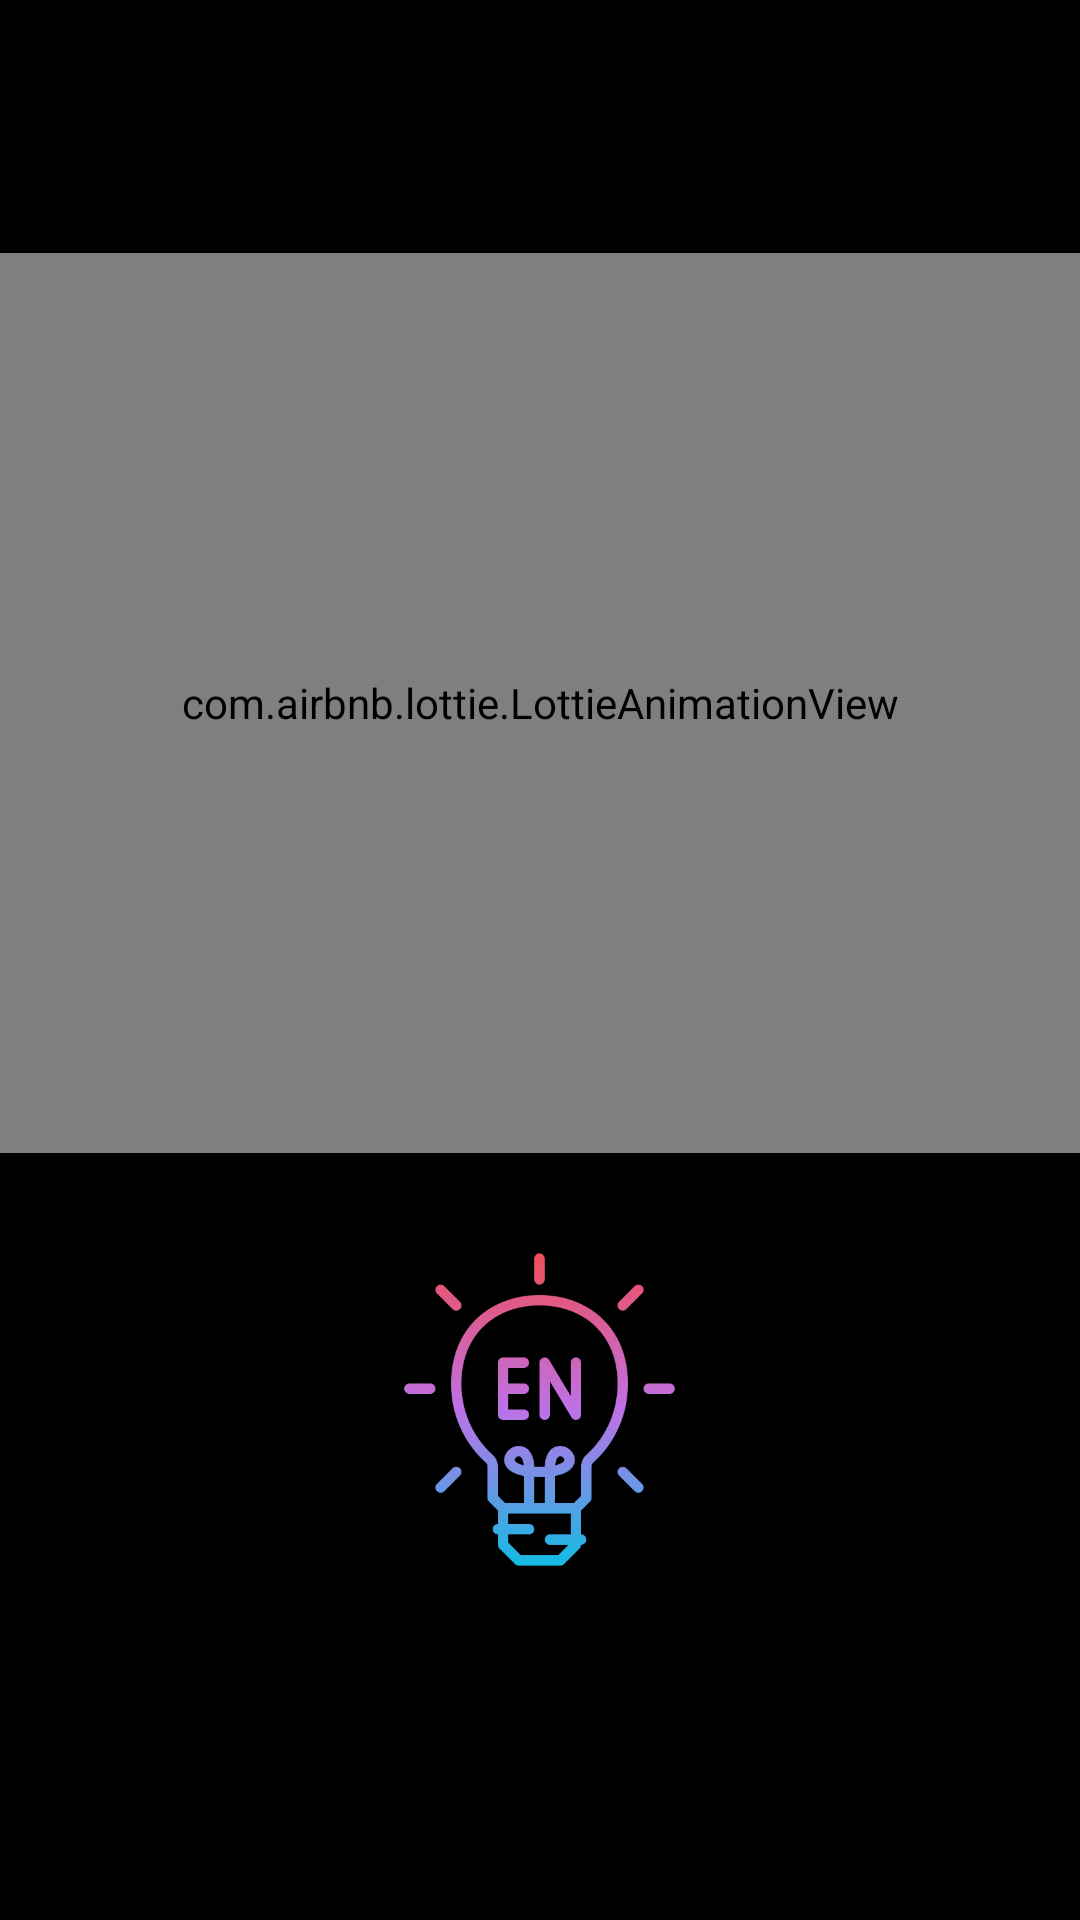

Screen size 1080w x 1920h. Icon name, then its box in pixels as (x1, y1, x2, y2):
understanding: (404, 1253, 675, 1566)
